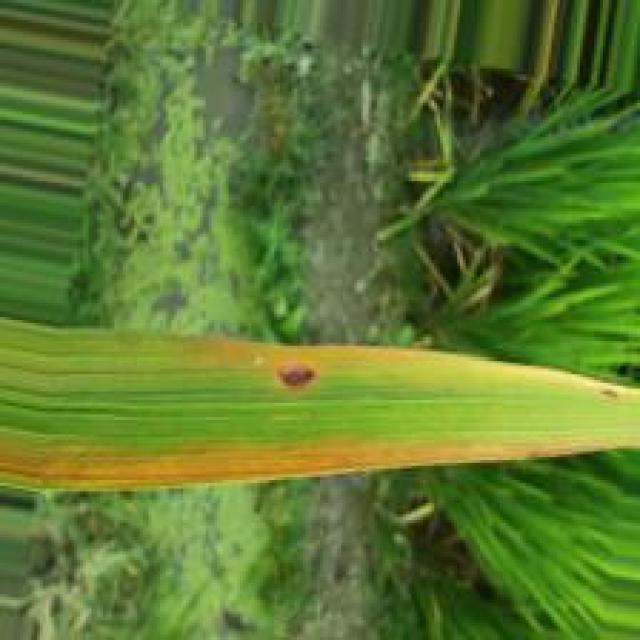Brown_Spot: (276, 364, 317, 392)
